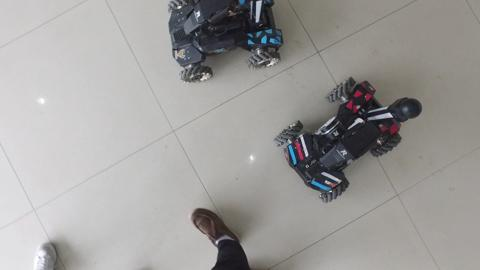chariot: (271, 68, 426, 209), (162, 1, 283, 84)
